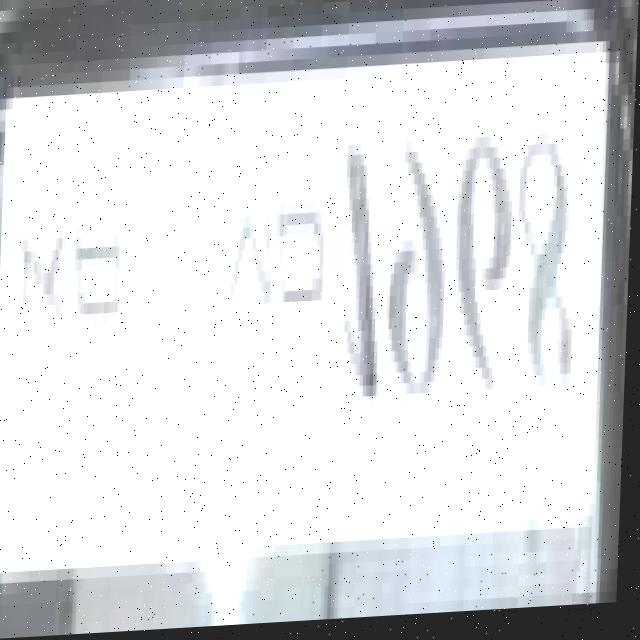plate: (0, 43, 616, 589)
